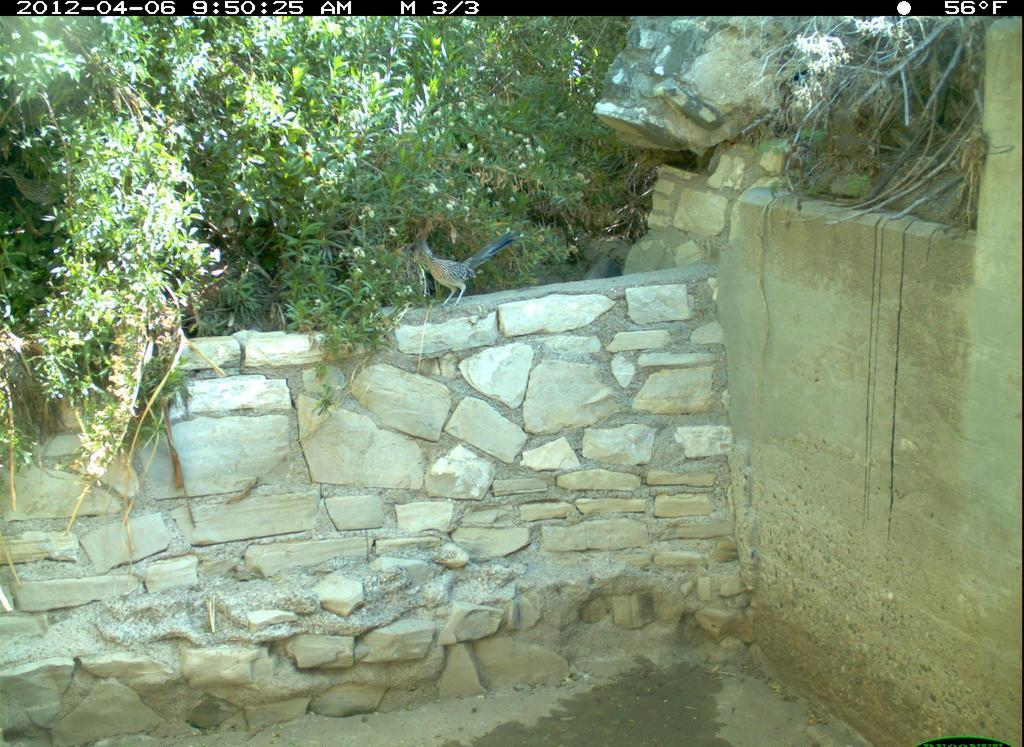bird: (405, 218, 528, 313)
